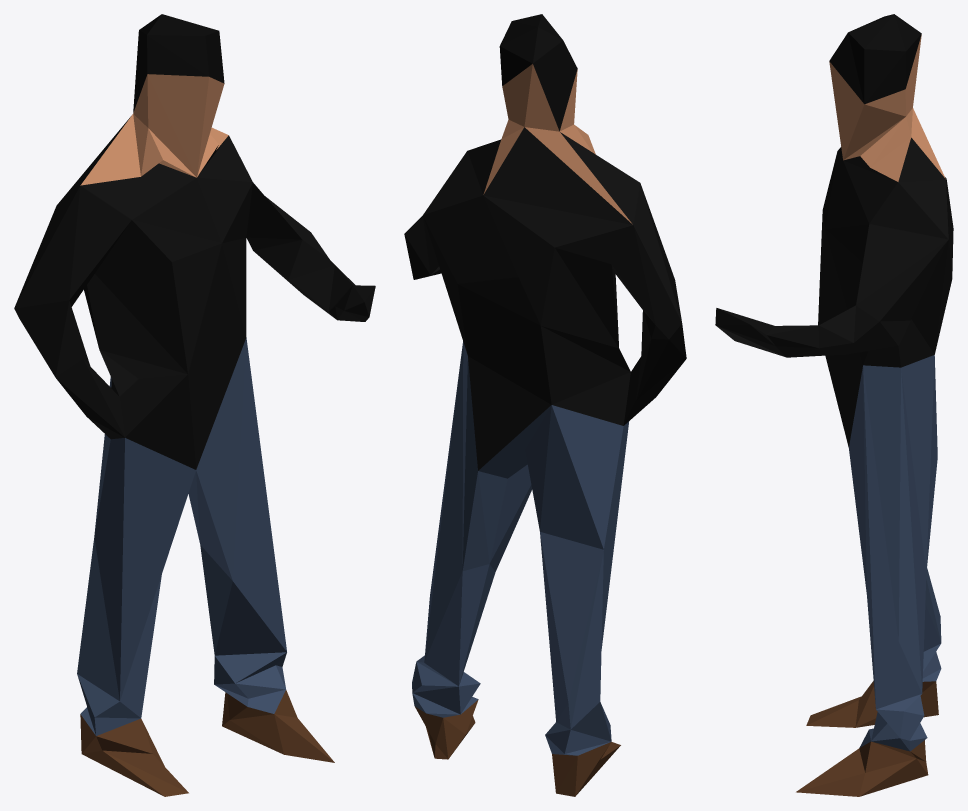
The model's file is walker-31.glb.
The picture shows the model from 3 angles, left to right: view 1: azimuth 30°, elevation 25°; view 2: azimuth 150°, elevation 25°; view 3: azimuth 270°, elevation 25°; orthographic projection. The views are drawn at different scales.
Visible parts, largest first — view 1: Man09; view 2: Man09; view 3: Man09.
Part boxes in pixels (bbox=[...]): Man09: bbox=[14, 14, 375, 796]; Man09: bbox=[404, 14, 686, 796]; Man09: bbox=[715, 14, 953, 796].
Bounding box in the file's own units: 0.6877 × 1.66 × 0.4974.
